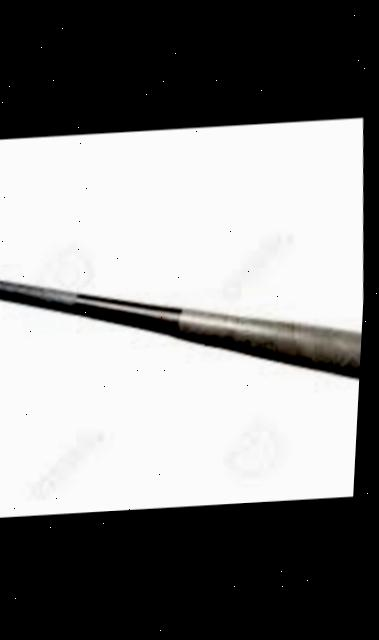baseball bat: (0, 269, 366, 384)
